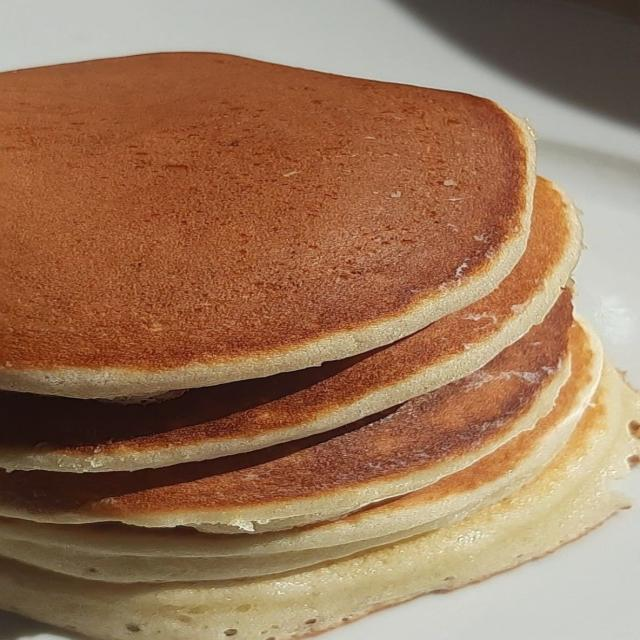pancake: (0, 53, 534, 397), (0, 370, 639, 639), (0, 179, 580, 472), (0, 325, 602, 582), (0, 290, 572, 532)
